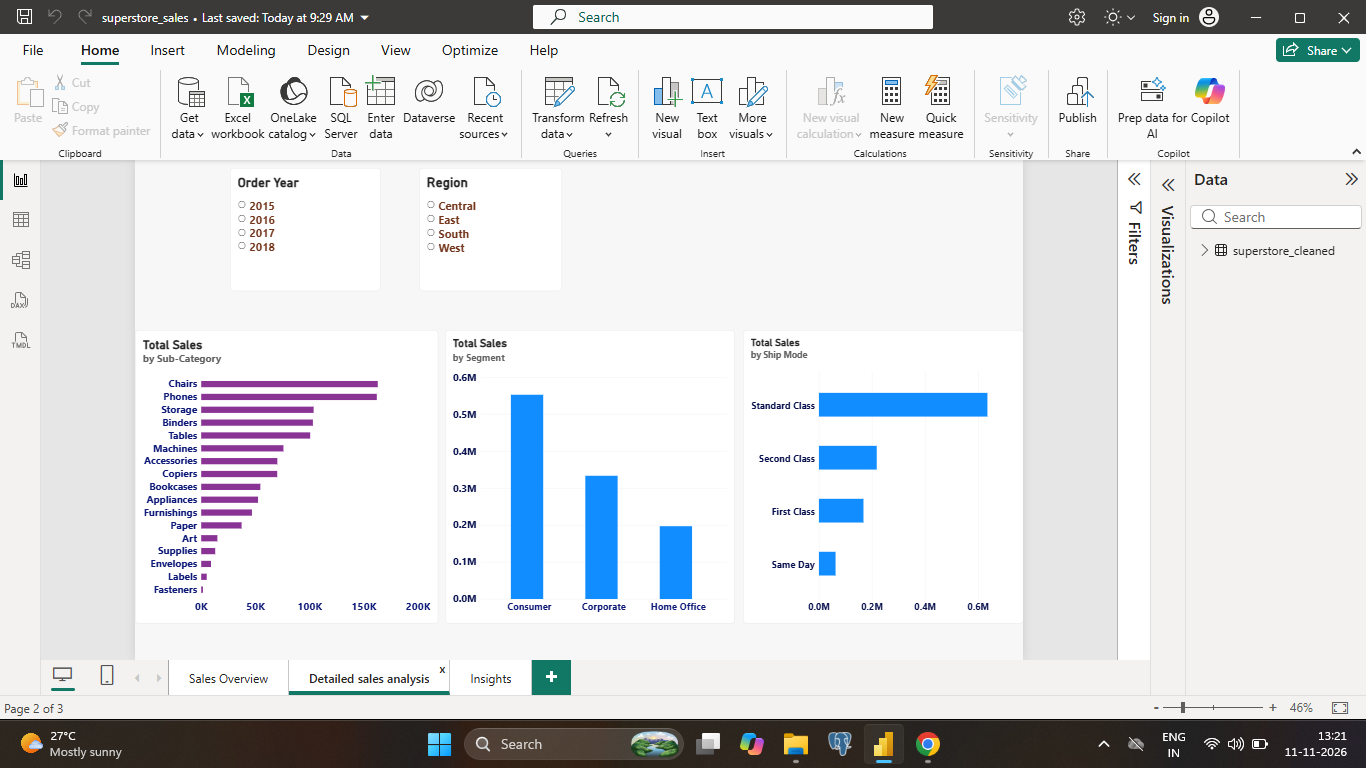

The dashboard page shown, as its layout file describes it:
{"tool":"powerbi","page":{"name":"Detailed sales analysis","canvas":[1920,1080],"ordinal":1},"visuals":[{"type":"clusteredBarChart","fields":{"Category":["superstore_cleaned.Sub-Category"],"Y":["superstore_cleaned.Total Sales"]},"box":[0,338.3,655.3,663.8],"z":0},{"type":"clusteredColumnChart","fields":{"Category":["superstore_cleaned.Segment"],"Y":["superstore_cleaned.Total Sales"]},"box":[670.2,338.3,625.5,663.8],"z":1},{"type":"clusteredBarChart","fields":{"Category":["superstore_cleaned.Ship Mode"],"Y":["superstore_cleaned.Total Sales"]},"box":[1312.8,338.3,606.4,663.8],"z":2},{"type":"listSlicer","fields":{"Values":["superstore_cleaned.Order Year"]},"box":[204.3,17,325.5,266],"z":3},{"type":"listSlicer","fields":{"Values":["superstore_cleaned.Region"]},"box":[612.8,17,308.5,266],"z":4}]}

Visuals, with their boxes on the page's 1920x1080 design canvas (x1, y1, x2, y2). These are canvas units, not pixel positions in the 1366x768 screenshot, which may show the page scaled, cropped or inside an application window:
clusteredBarChart - superstore_cleaned.Sub-Category x superstore_cleaned.Total Sales: rect(0, 338, 655, 1002)
clusteredColumnChart - superstore_cleaned.Segment x superstore_cleaned.Total Sales: rect(670, 338, 1296, 1002)
clusteredBarChart - superstore_cleaned.Ship Mode x superstore_cleaned.Total Sales: rect(1313, 338, 1919, 1002)
listSlicer - superstore_cleaned.Order Year: rect(204, 17, 530, 283)
listSlicer - superstore_cleaned.Region: rect(613, 17, 921, 283)
